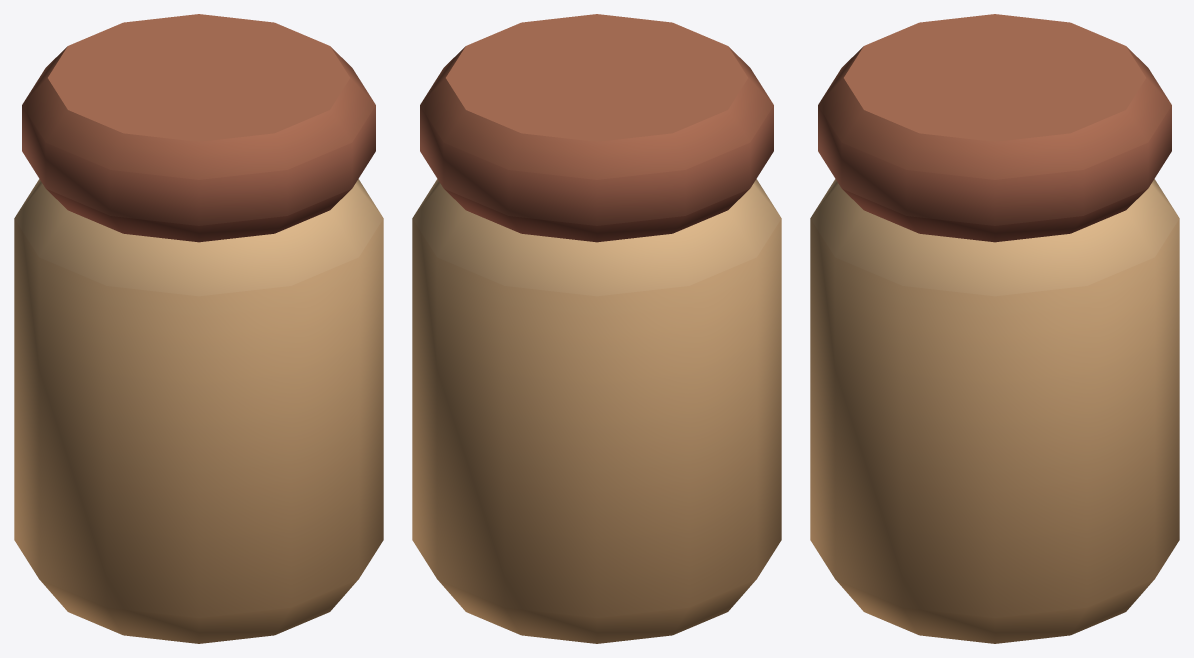
The model's file is jar_C_large.obj.
3 renders of one model, left to right at view 1: azimuth 30°, elevation 25°; view 2: azimuth 150°, elevation 25°; view 3: azimuth 270°, elevation 25°, orthographic.
Parts seen in each view (by area): view 1: jar_C_large_Cylinder.266; view 2: jar_C_large_Cylinder.266; view 3: jar_C_large_Cylinder.266.
Boxes of the visible parts, <box> form: jar_C_large_Cylinder.266: <box>14,14,383,643</box>; jar_C_large_Cylinder.266: <box>412,14,781,643</box>; jar_C_large_Cylinder.266: <box>810,14,1179,643</box>.
Bounding box in the file's own units: 0.5 × 0.75 × 0.5.
1 material, 1 textured.
